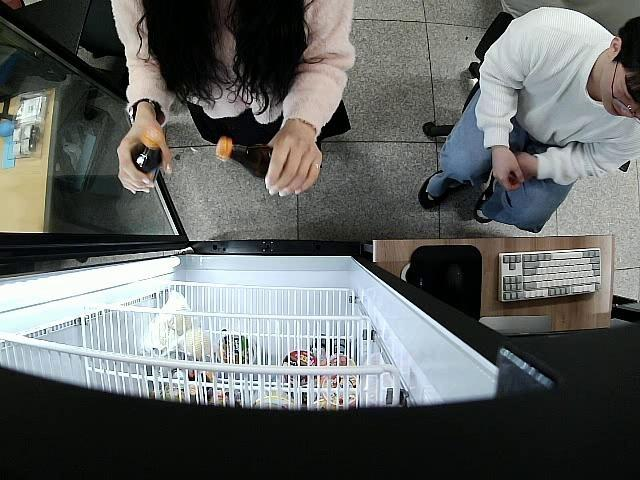17_vita500: (215, 134, 272, 182), (128, 129, 164, 186)
